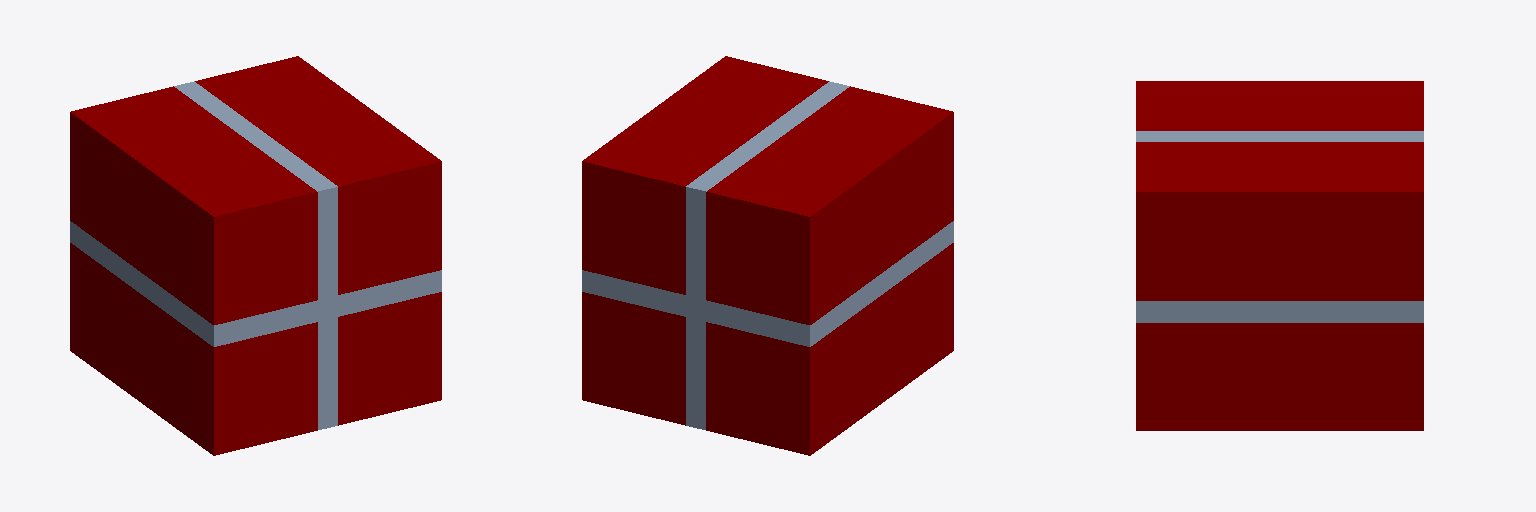
3 renders of one model, left to right at view 1: azimuth 30°, elevation 25°; view 2: azimuth 150°, elevation 25°; view 3: azimuth 270°, elevation 25°, orthographic.
Visible parts, largest first — view 1: object 1; view 2: object 1; view 3: object 1.
Boxes of the visible parts, box(x1,y1,x2,y2) form: object 1: box(70, 56, 441, 455); object 1: box(582, 56, 953, 455); object 1: box(1136, 81, 1423, 430).
Bounding box in the file's own units: 1.1 × 1.1 × 1.2.
1 materials, 1 textured.